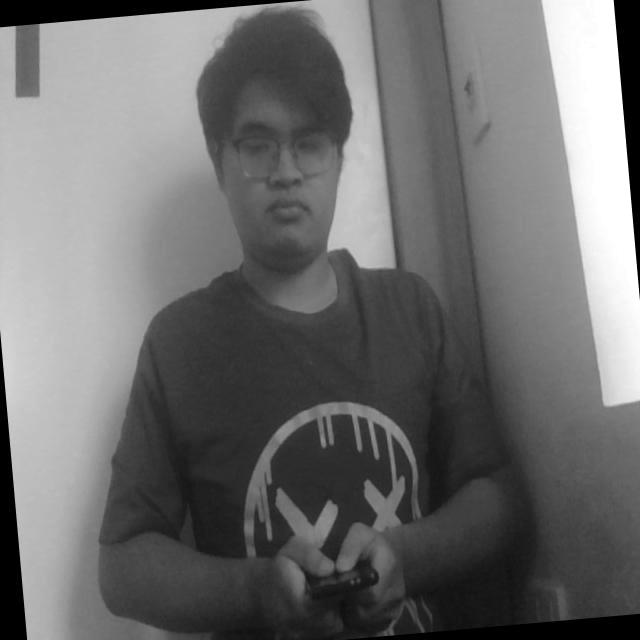phone: (285, 530, 384, 628)
